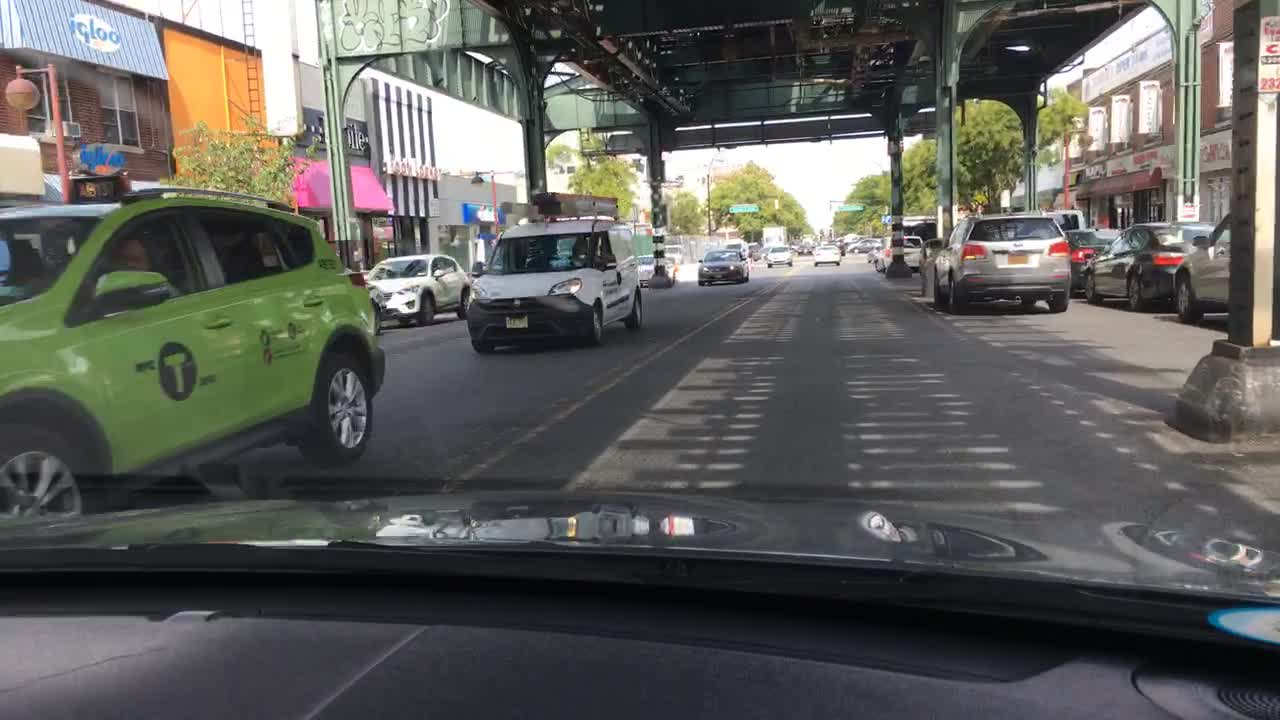car: (0, 131, 389, 522), (464, 190, 645, 350), (928, 209, 1071, 311), (1086, 221, 1206, 310), (364, 252, 472, 327), (1178, 215, 1232, 319), (1066, 229, 1123, 292), (869, 236, 925, 276), (699, 246, 750, 284), (1049, 209, 1085, 233), (908, 221, 939, 243), (813, 243, 840, 267), (770, 249, 794, 267), (857, 236, 880, 252), (727, 240, 747, 255), (797, 241, 813, 255), (750, 240, 764, 255)
person: (837, 236, 850, 256)
traffic light: (771, 193, 778, 210)
traffic sign: (728, 206, 761, 213), (831, 206, 859, 211)
truck: (764, 223, 785, 250)
